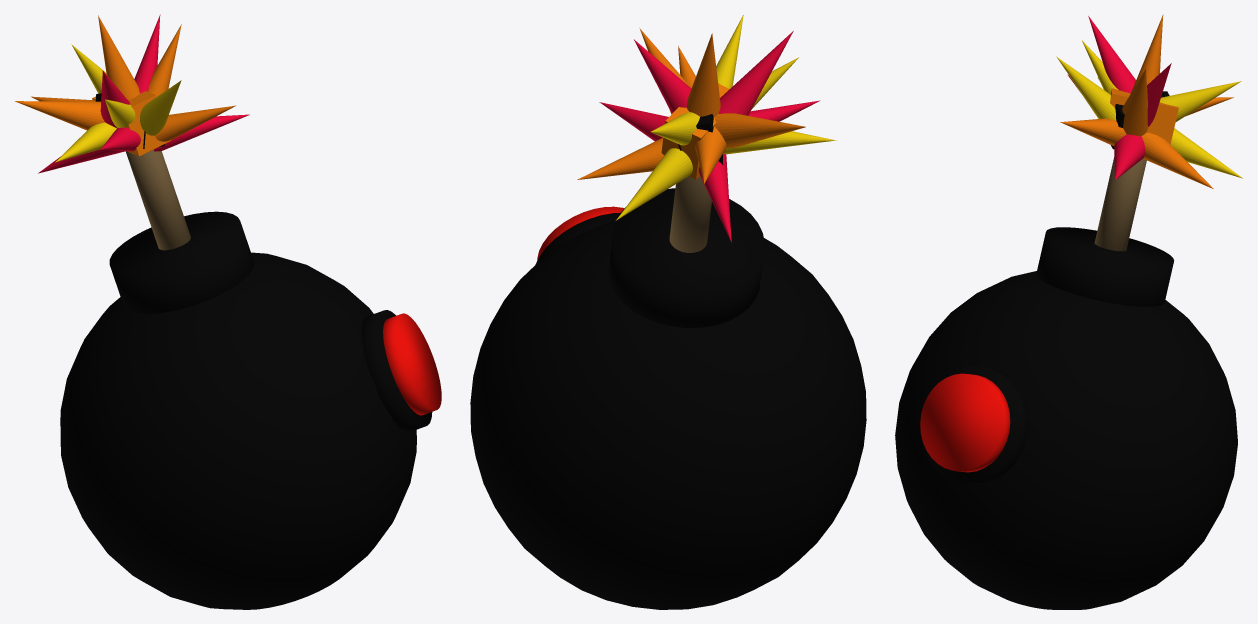
The model's file is Bomb.glb.
3 renders of one model, left to right at view 1: azimuth 30°, elevation 25°; view 2: azimuth 150°, elevation 25°; view 3: azimuth 270°, elevation 25°, orthographic. The views are drawn at different scales.
Parts seen in each view (by area): view 1: Cylinder001_1, Cylinder001, Cylinder001_6, Cylinder001_9, Cylinder001_5, Cylinder001_2, Cylinder001_7, Cylinder001_8, Cylinder001_4; view 2: Cylinder001_1, Cylinder001, Cylinder001_6, Cylinder001_5, Cylinder001_7, Cylinder001_2, Cylinder001_4, Cylinder001_8, Cylinder001_9; view 3: Cylinder001_1, Cylinder001, Cylinder001_9, Cylinder001_6, Cylinder001_7, Cylinder001_8, Cylinder001_5, Cylinder001_2, Cylinder001_4.
Boxes of the visible parts, x1=… form: Cylinder001_1: x1=60, y1=252, x2=416, y2=609; Cylinder001: x1=109, y1=211, x2=253, y2=313; Cylinder001_6: x1=14, y1=15, x2=235, y2=152; Cylinder001_9: x1=383, y1=313, x2=441, y2=415; Cylinder001_5: x1=38, y1=14, x2=249, y2=173; Cylinder001_2: x1=125, y1=149, x2=190, y2=250; Cylinder001_7: x1=55, y1=44, x2=181, y2=162; Cylinder001_8: x1=361, y1=310, x2=432, y2=431; Cylinder001_4: x1=92, y1=91, x2=171, y2=156; Cylinder001_1: x1=470, y1=220, x2=866, y2=609; Cylinder001: x1=608, y1=188, x2=764, y2=327; Cylinder001_6: x1=577, y1=28, x2=805, y2=183; Cylinder001_5: x1=599, y1=31, x2=820, y2=242; Cylinder001_7: x1=616, y1=15, x2=836, y2=220; Cylinder001_2: x1=669, y1=176, x2=711, y2=252; Cylinder001_4: x1=661, y1=83, x2=729, y2=179; Cylinder001_8: x1=535, y1=212, x2=620, y2=264; Cylinder001_9: x1=537, y1=206, x2=623, y2=259; Cylinder001_1: x1=895, y1=271, x2=1237, y2=609; Cylinder001: x1=1036, y1=227, x2=1174, y2=306; Cylinder001_9: x1=920, y1=373, x2=1010, y2=472; Cylinder001_6: x1=1060, y1=14, x2=1233, y2=188; Cylinder001_7: x1=1056, y1=40, x2=1242, y2=178; Cylinder001_8: x1=920, y1=365, x2=1028, y2=484; Cylinder001_5: x1=1067, y1=16, x2=1171, y2=180; Cylinder001_2: x1=1094, y1=157, x2=1146, y2=251; Cylinder001_4: x1=1110, y1=88, x2=1178, y2=144.
Size of the model in its own units: 0.2284 by 0.3712 by 0.218.
